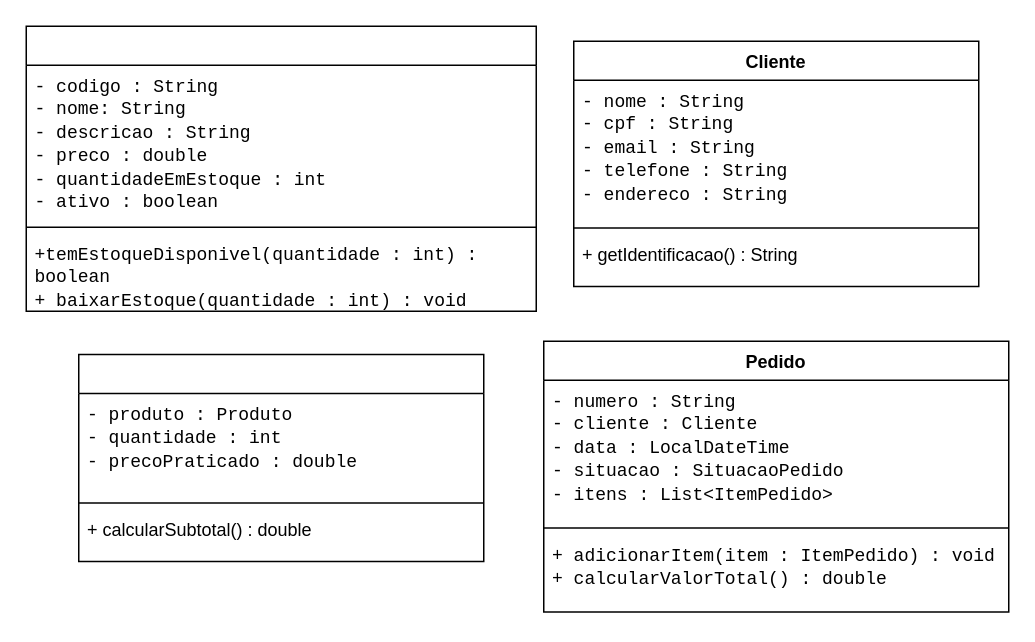
The diagram is 1035 pixels wide and 642 high, and some of its shapes have lost their labels. The shapes that lost their labels are listed below. From the top down, each one's box as (x1, y1, x2, y2) in pixels, then its label:
(25, 25, 536, 311): Produto
(77, 353, 484, 561): ItemPedido
